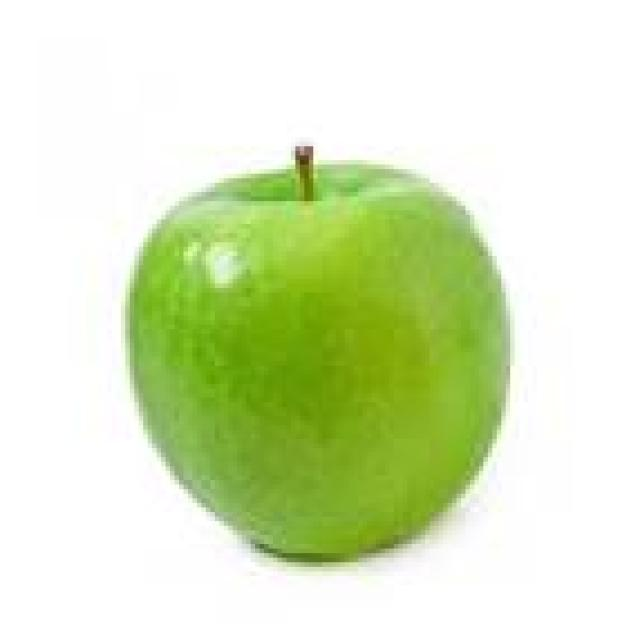apple: (130, 147, 510, 557)
